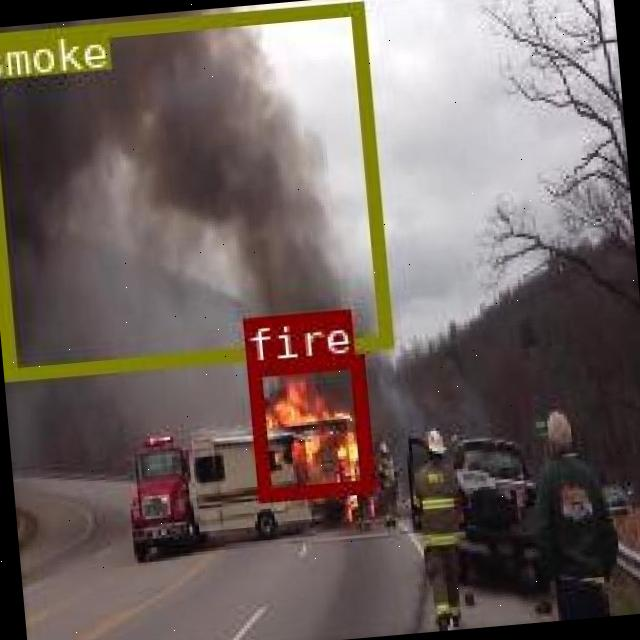fire: (244, 352, 371, 499)
smoke: (0, 0, 391, 378)
